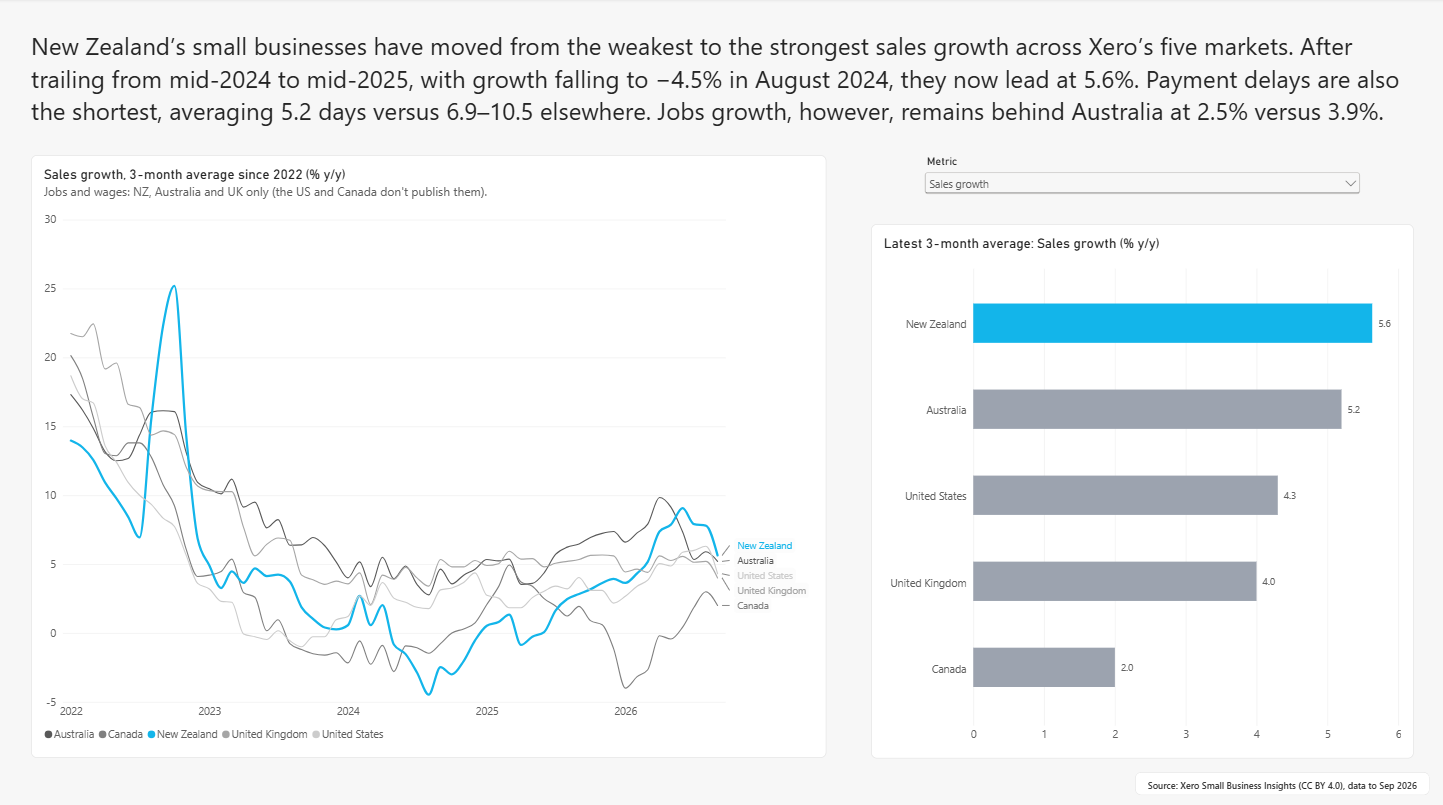

This screenshot's page, from the dashboard's own definition file:
{"tool":"powerbi","page":{"name":"International","canvas":[1920,1080],"ordinal":4},"visuals":[{"type":"textbox","box":[40.9,40.9,1839.8,143],"z":0},{"type":"cardVisual","fields":{"Data":["_Measures.Source Note"]},"box":[1509.6,1029.5,392.4,31.9],"z":1000},{"type":"slicer","fields":{"Values":["DimMetric.MetricName"]},"box":[1225.5,208.6,589.4,70],"z":2000},{"type":"lineChart","fields":{"Category":["DimDate.Date"],"Series":["DimCountry.CountryName"],"Y":["_Measures.Value 3M Avg"]},"box":[40.9,208.6,1057.8,802.4],"z":3000},{"type":"clusteredBarChart","fields":{"Category":["DimCountry.CountryName"],"Y":["_Measures.Latest 3M Avg"]},"box":[1158.4,300.5,722.2,710.5],"z":4000}]}

Visuals, with their boxes in screenshot pixels (x1, y1, x2, y2), scaled from the page's 1920x1080 canvas onto the 1443x805 screenshot:
textbox: (left=31, top=30, right=1413, bottom=137)
cardVisual - _Measures.Source Note: (left=1135, top=767, right=1429, bottom=791)
slicer - DimMetric.MetricName: (left=921, top=155, right=1364, bottom=208)
lineChart - DimDate.Date x DimCountry.CountryName: (left=31, top=155, right=826, bottom=754)
clusteredBarChart - DimCountry.CountryName x _Measures.Latest 3M Avg: (left=871, top=224, right=1413, bottom=754)
